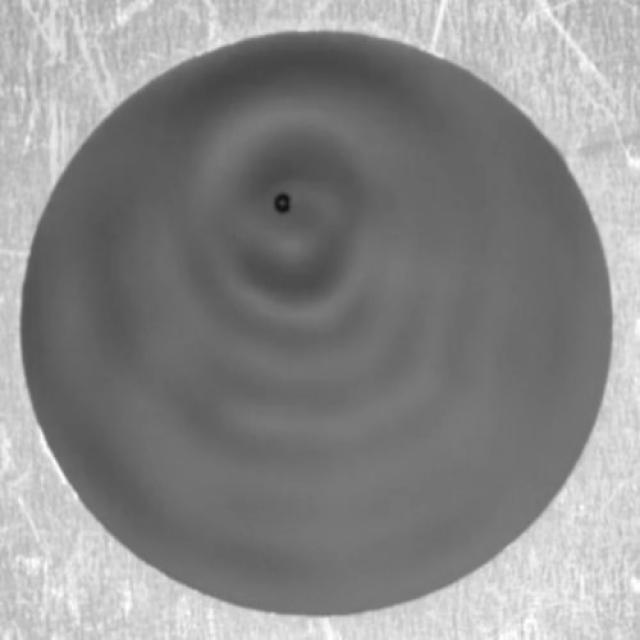droplet: (274, 194, 292, 218)
